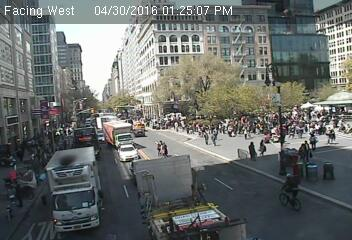neg: (320, 14, 339, 39), (158, 182, 176, 206), (70, 186, 88, 210), (314, 73, 331, 96), (217, 213, 232, 234), (289, 24, 303, 44), (59, 151, 73, 171), (244, 18, 257, 36), (28, 204, 41, 222), (79, 146, 92, 164), (155, 68, 167, 84), (130, 166, 142, 182), (68, 163, 80, 179), (180, 78, 192, 93), (320, 186, 332, 201), (156, 210, 168, 225), (53, 170, 64, 186), (341, 148, 351, 165), (199, 63, 210, 77), (187, 221, 198, 235), (289, 85, 299, 99), (195, 208, 205, 222), (200, 102, 210, 115), (222, 93, 231, 106), (271, 96, 280, 109), (283, 44, 292, 56), (311, 12, 320, 24), (235, 81, 243, 92), (286, 198, 293, 208), (339, 78, 345, 86), (247, 101, 252, 107)
pos: (245, 141, 259, 159), (306, 131, 320, 149), (256, 139, 268, 154), (210, 131, 219, 144), (200, 132, 209, 144), (241, 127, 250, 139), (173, 121, 181, 131)
